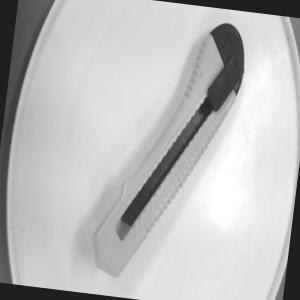estilete: (86, 7, 249, 290)
